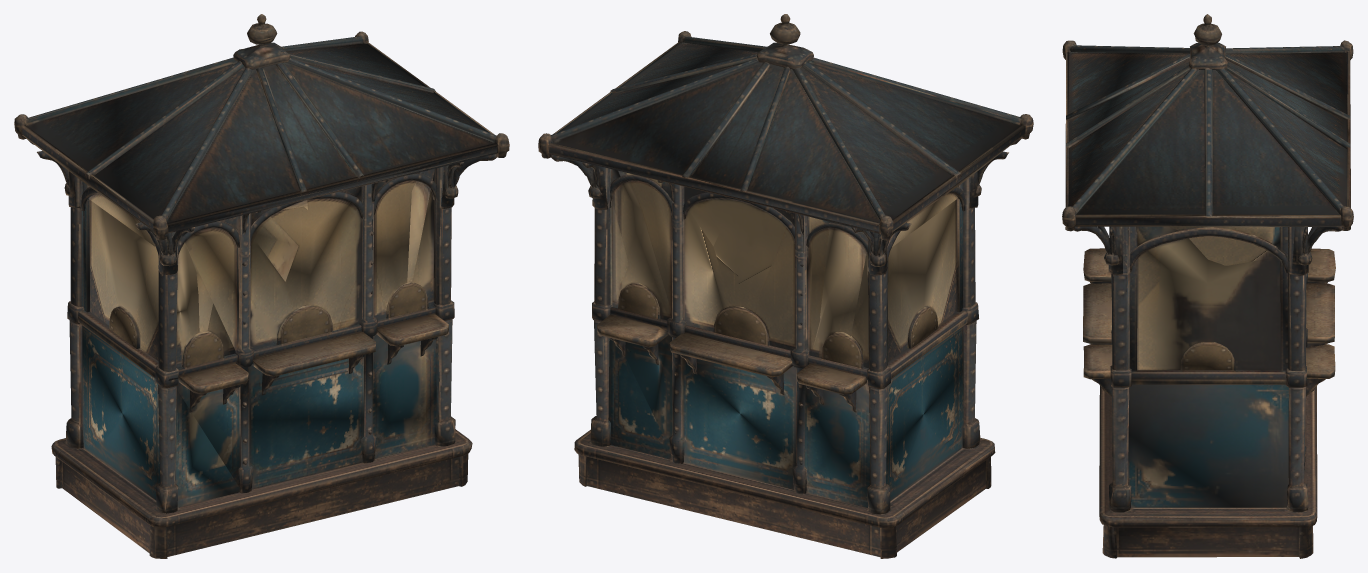
File: Kiosk.glb
3 views of the same model, side by side, from view 1: azimuth 30°, elevation 25°; view 2: azimuth 150°, elevation 25°; view 3: azimuth 270°, elevation 25° (orthographic).
Bounding box in the file's own units: 0.7884 × 0.9991 × 0.5657.
Materials: 1 (1 with a texture image).
